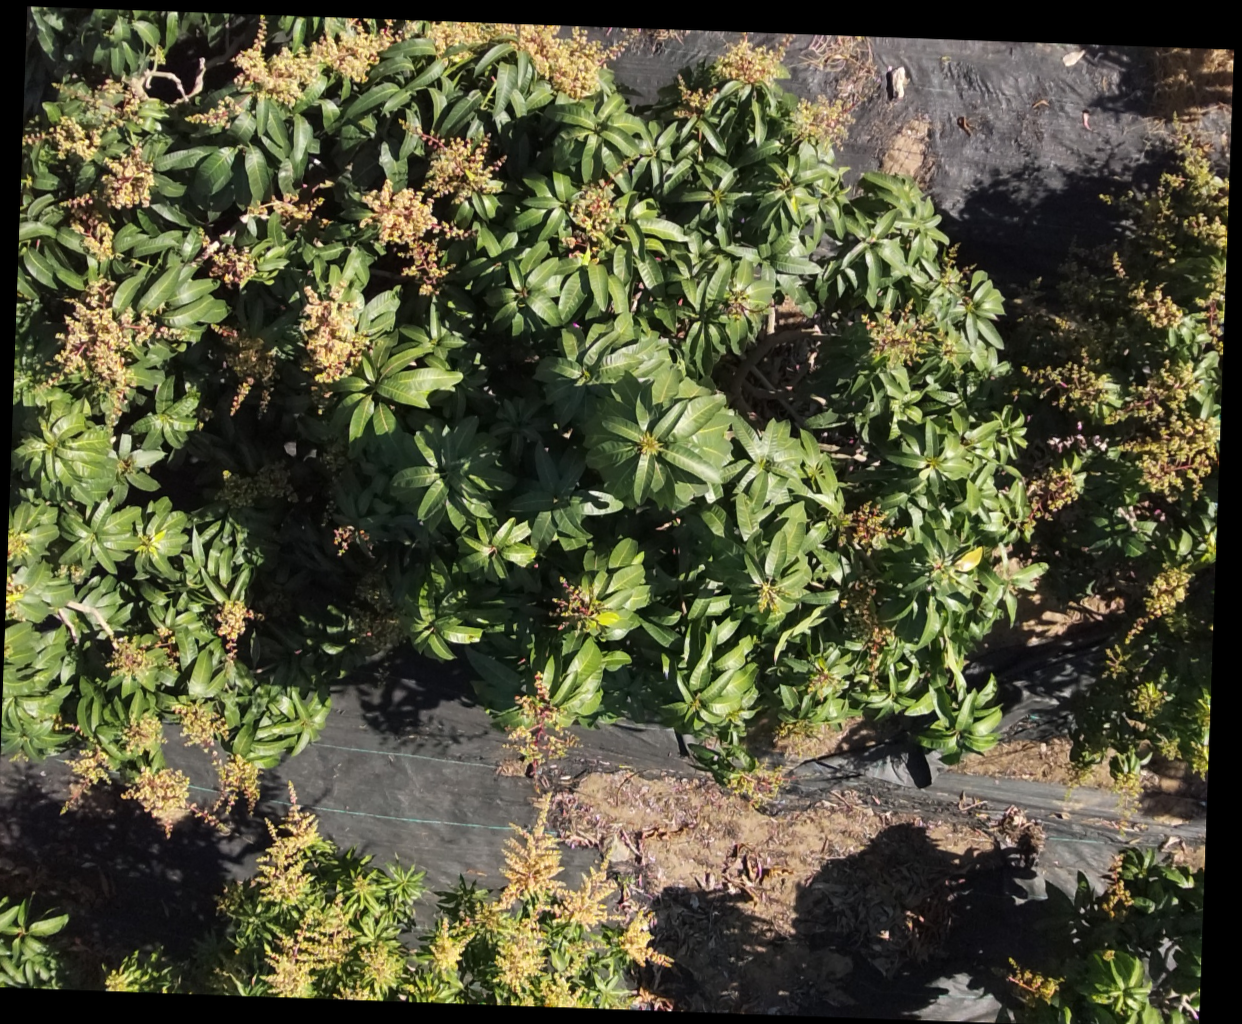flowers: (187, 16, 396, 131), (362, 126, 502, 295), (35, 277, 183, 424), (254, 798, 351, 998), (1142, 151, 1227, 353), (495, 802, 618, 928), (1111, 357, 1221, 495), (426, 24, 608, 97), (24, 78, 161, 161), (64, 143, 153, 261), (171, 699, 261, 814), (300, 280, 369, 410), (497, 917, 593, 1008), (503, 673, 577, 778), (122, 767, 228, 836), (428, 883, 499, 977), (840, 577, 895, 687), (1110, 251, 1185, 327), (211, 325, 275, 415), (863, 309, 962, 367), (1022, 361, 1121, 416), (1126, 565, 1191, 645), (564, 179, 621, 265), (242, 178, 333, 227), (830, 500, 906, 552), (344, 938, 404, 1000), (713, 36, 789, 84), (553, 580, 620, 633), (62, 742, 111, 813), (790, 95, 852, 146), (1026, 464, 1084, 519), (621, 911, 674, 966), (195, 241, 258, 288), (1181, 685, 1210, 775), (727, 763, 784, 806), (1109, 749, 1142, 821), (215, 598, 254, 658), (109, 635, 157, 678), (122, 711, 164, 754), (673, 82, 715, 119), (1068, 739, 1103, 782), (105, 957, 144, 992), (1133, 682, 1165, 716), (757, 579, 784, 612)
